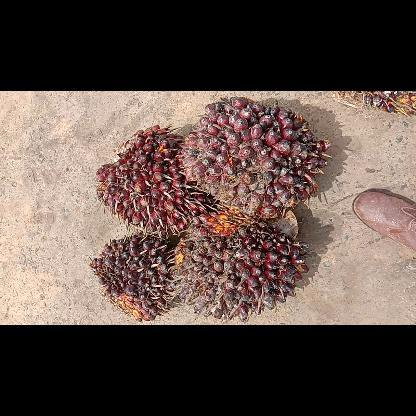Kurang masak: (165, 207, 311, 322), (94, 122, 218, 238)
TBS mentah: (179, 94, 333, 218), (87, 228, 176, 324)
